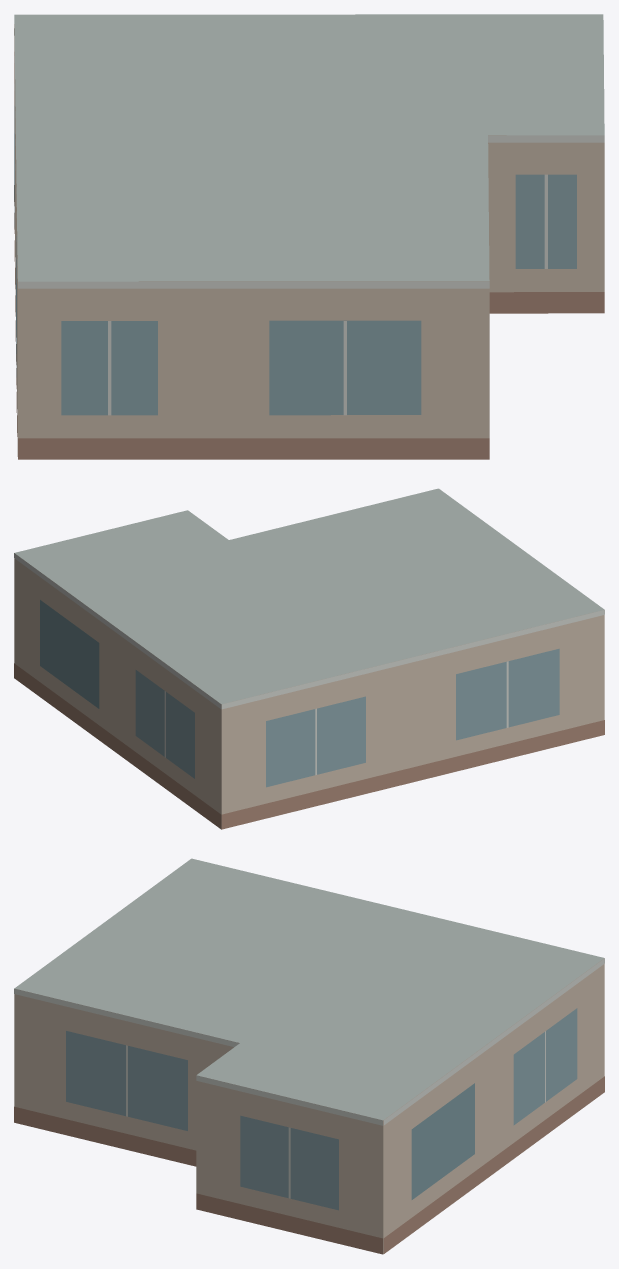
File: survey-upis-32994074.glb
3 views of the same model, one above another, from view 1: azimuth 30°, elevation 25°; view 2: azimuth 150°, elevation 25°; view 3: azimuth 270°, elevation 25° (orthographic). The views are drawn at different scales.
Visible parts, largest first — view 1: survey-upis-32994074.tmp; view 2: survey-upis-32994074.tmp; view 3: survey-upis-32994074.tmp.
Part boxes in pixels (bbox=[...]): survey-upis-32994074.tmp: bbox=[14, 14, 604, 459]; survey-upis-32994074.tmp: bbox=[14, 488, 604, 829]; survey-upis-32994074.tmp: bbox=[14, 858, 604, 1254].
Bounding box in the file's own units: 12.79 × 3.05 × 12.19.
